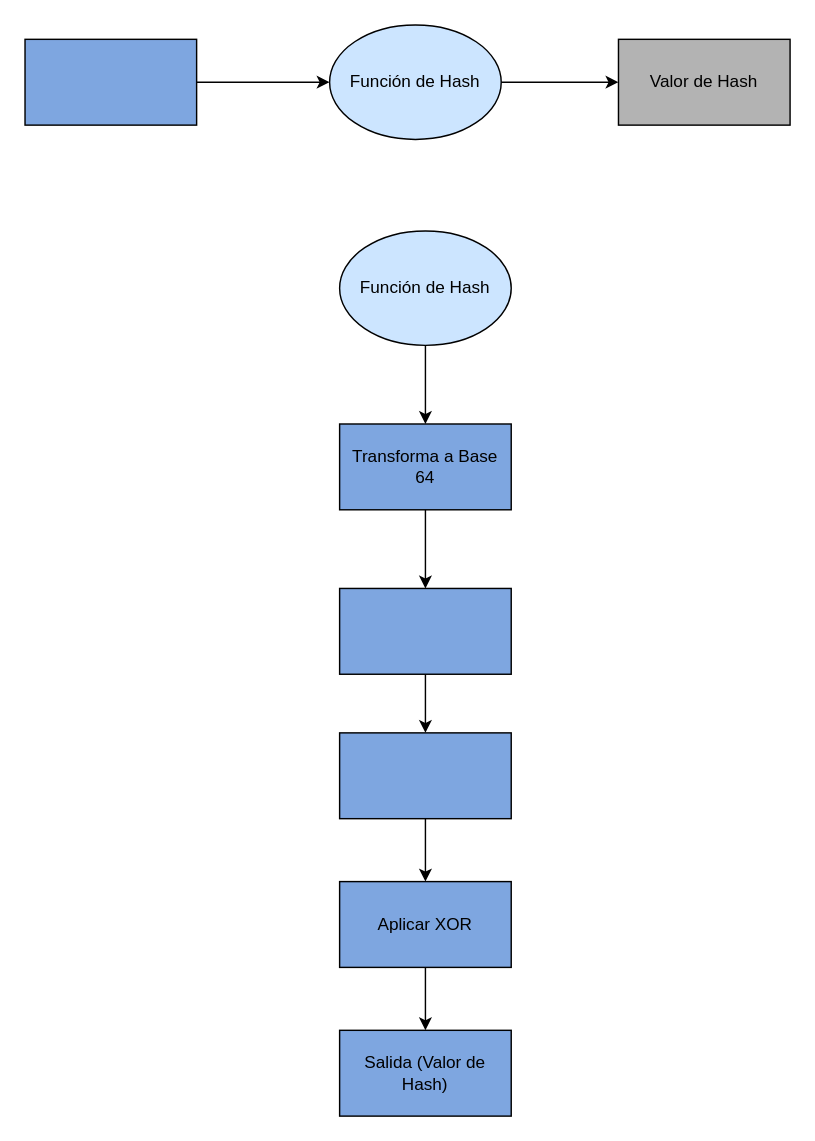
Image size: 815x1141. Some labels were removed from this diagram. Here are the shapes that lost their labels. From the top down, the centre of each, then its label:
At point (110, 81): "Entrada".
At point (424, 630): "Transformar a ASCII".
At point (424, 775): "Transformar hexadecimal".
